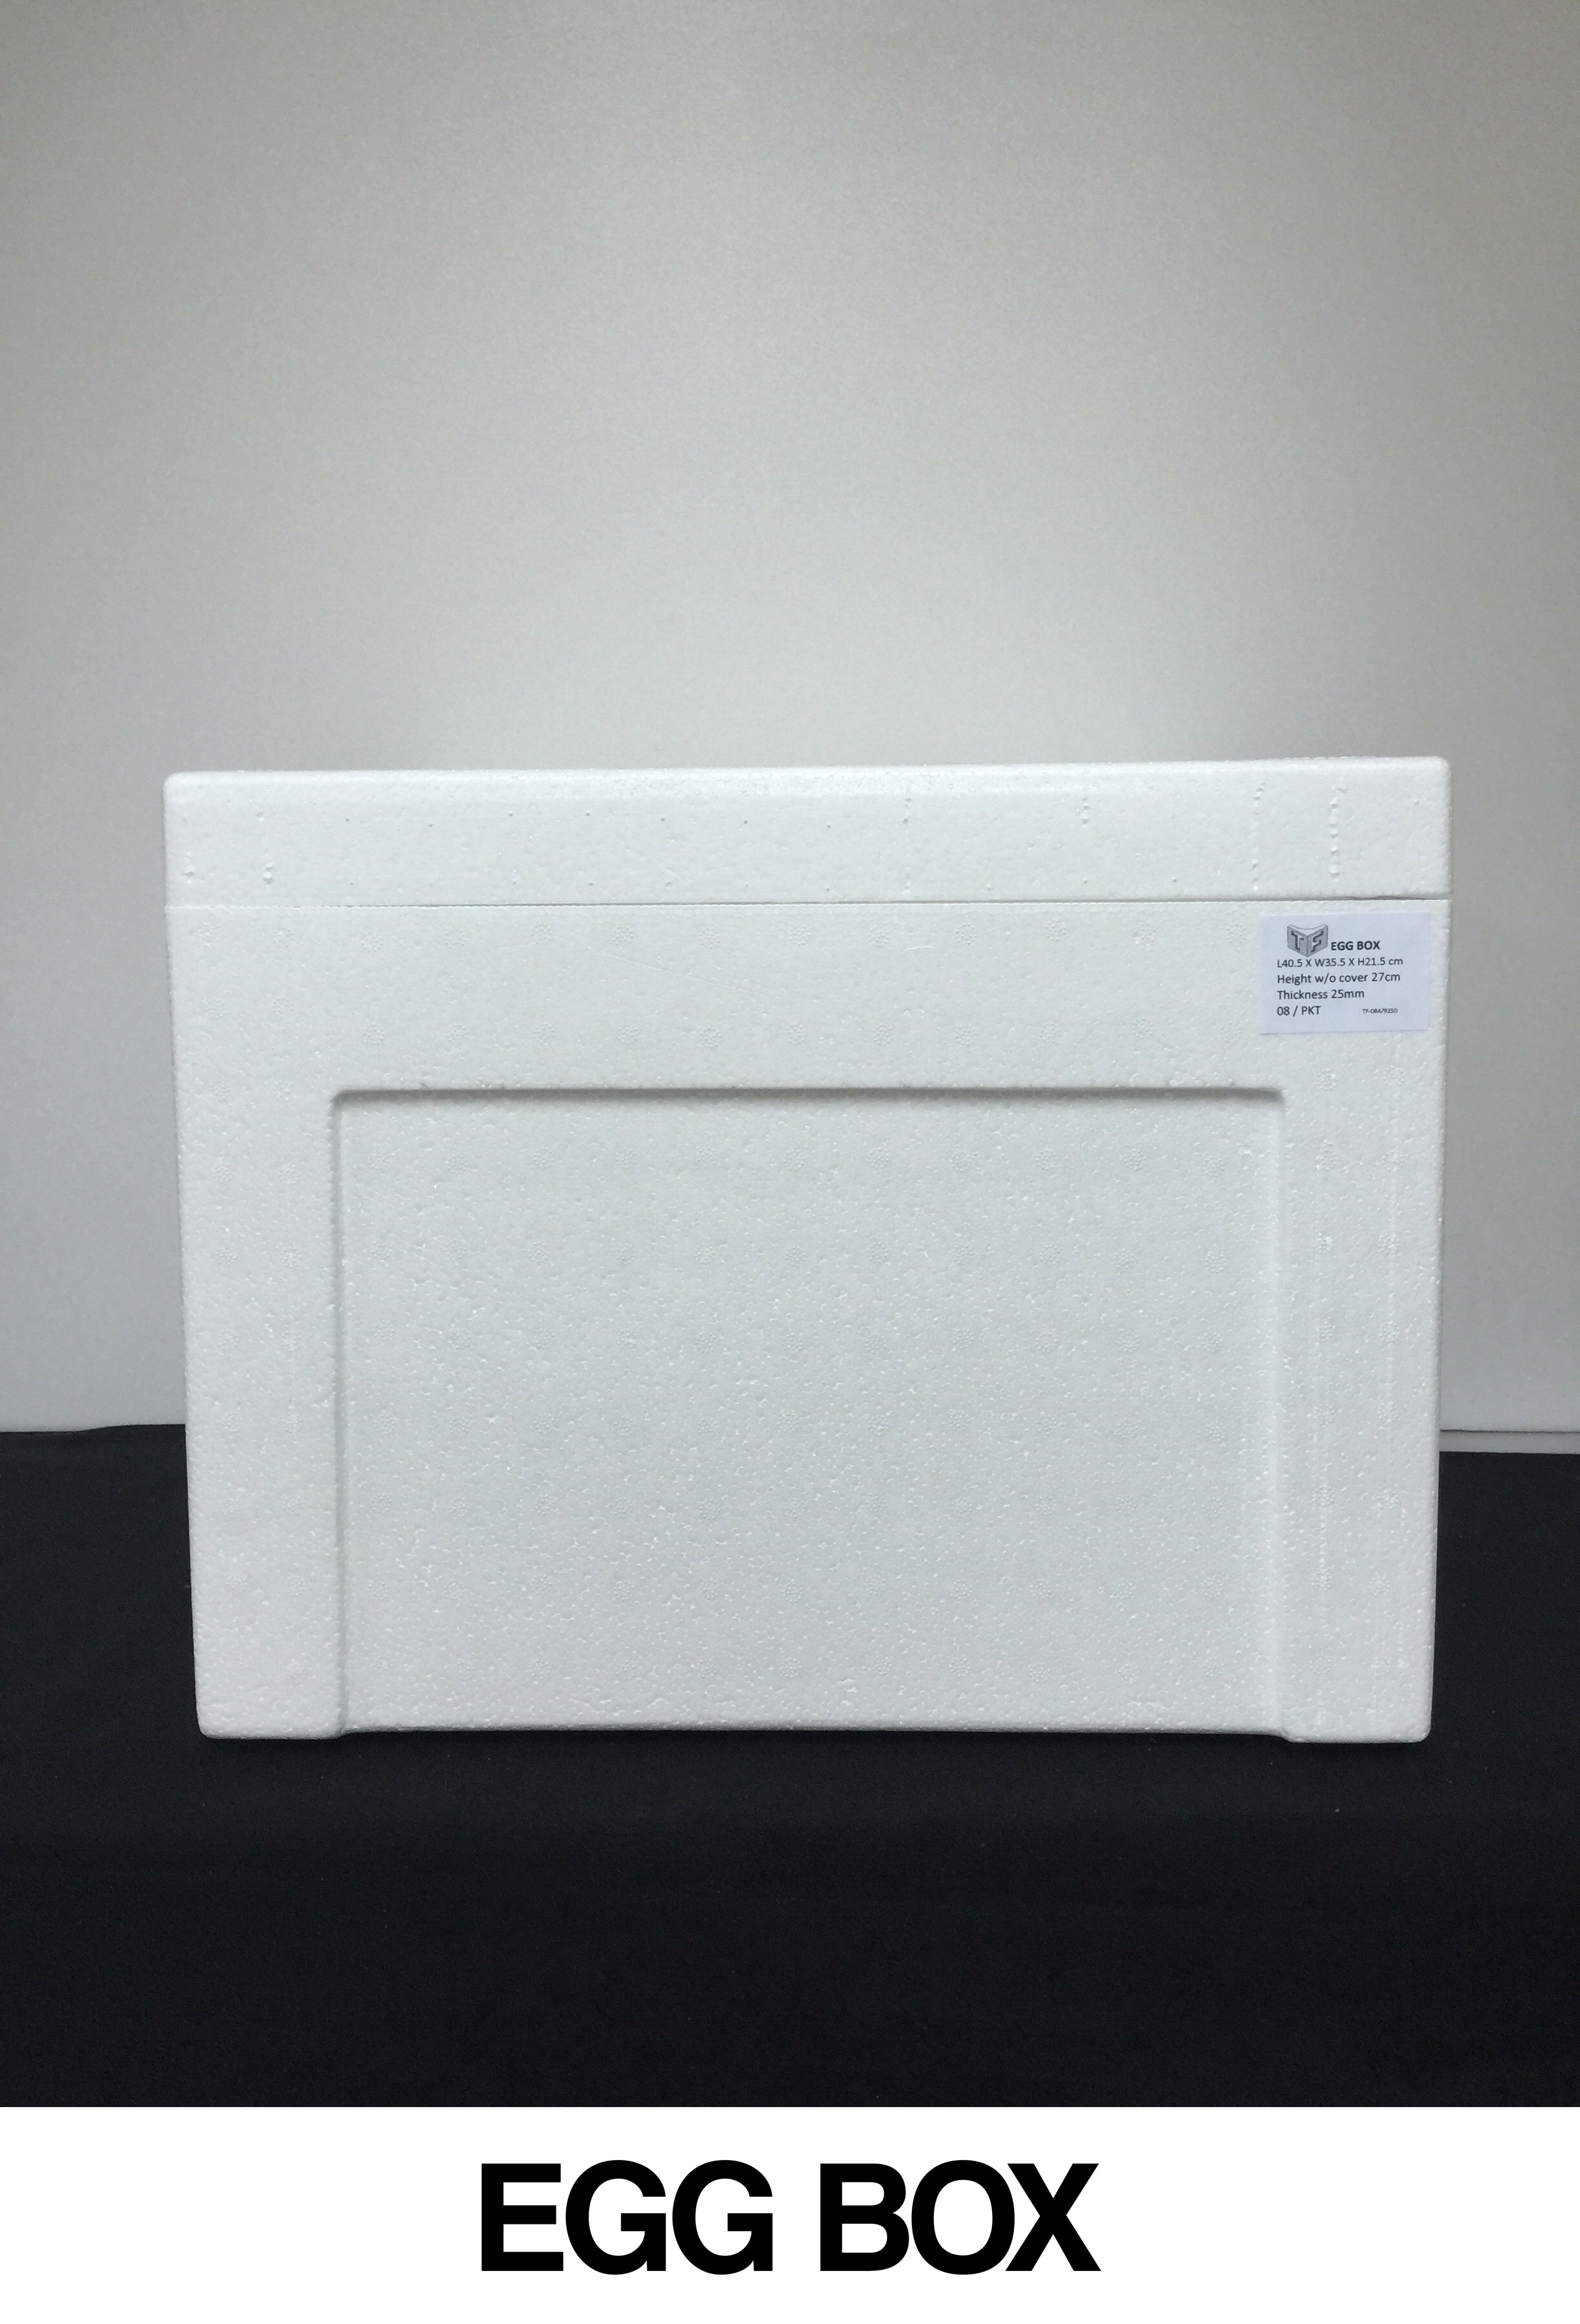Foam Box: (139, 725, 1457, 1783)
